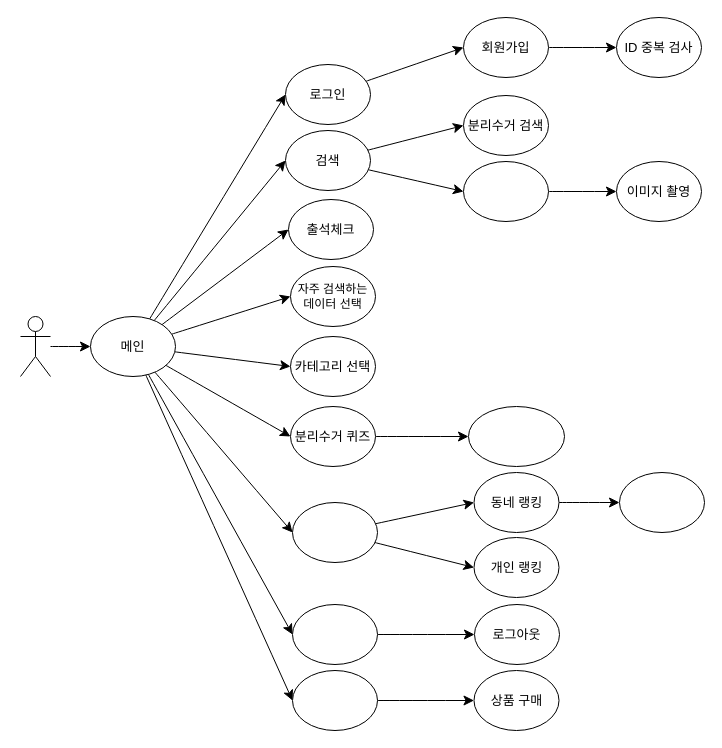
This 722x748 diagram has some shape labels left out. Here are the shapes that lost their labels. From the top down, the centre of each, then its label:
At (x=505, y=191): "이미지 검색".
At (x=35, y=346): "Actor".
At (x=516, y=436): "포인트 추가 및 퀴즈해설 출력".
At (x=661, y=502): "지도".
At (x=335, y=532): "랭킹".
At (x=335, y=634): "회원정보 수정".
At (x=335, y=700): "포인트 상점".
